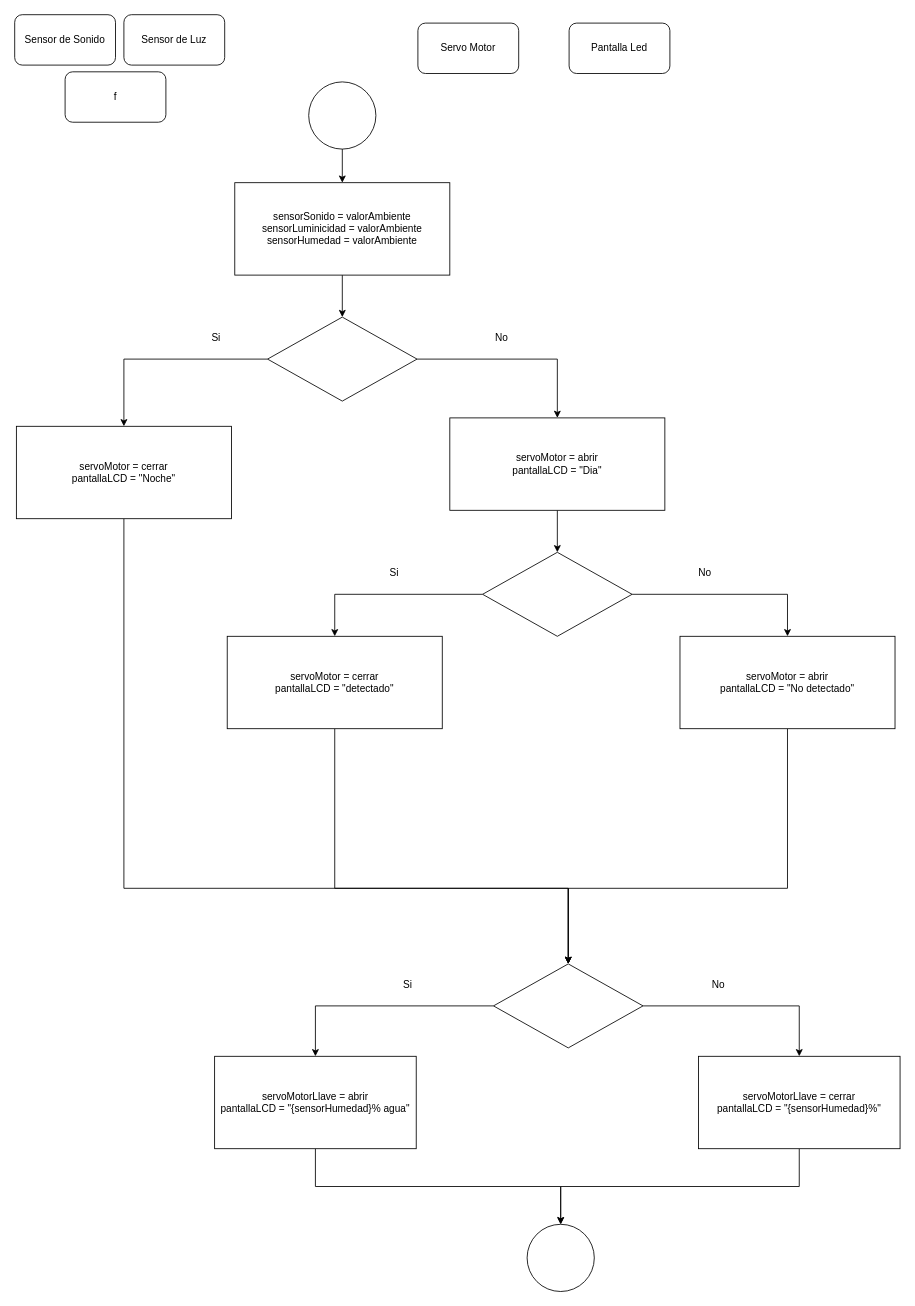
Some shapes in this 915 by 1306 pixel diagram are drawn without their labels. Each missing label, with the centre of its shape:
Final: (x=560, y=1257)
Inicio: (x=342, y=115)
sensorHumedad > 70: (x=568, y=1005)
sensorLuminicidad < 40: (x=342, y=358)
sensorSonido < 10cm: (x=557, y=593)
